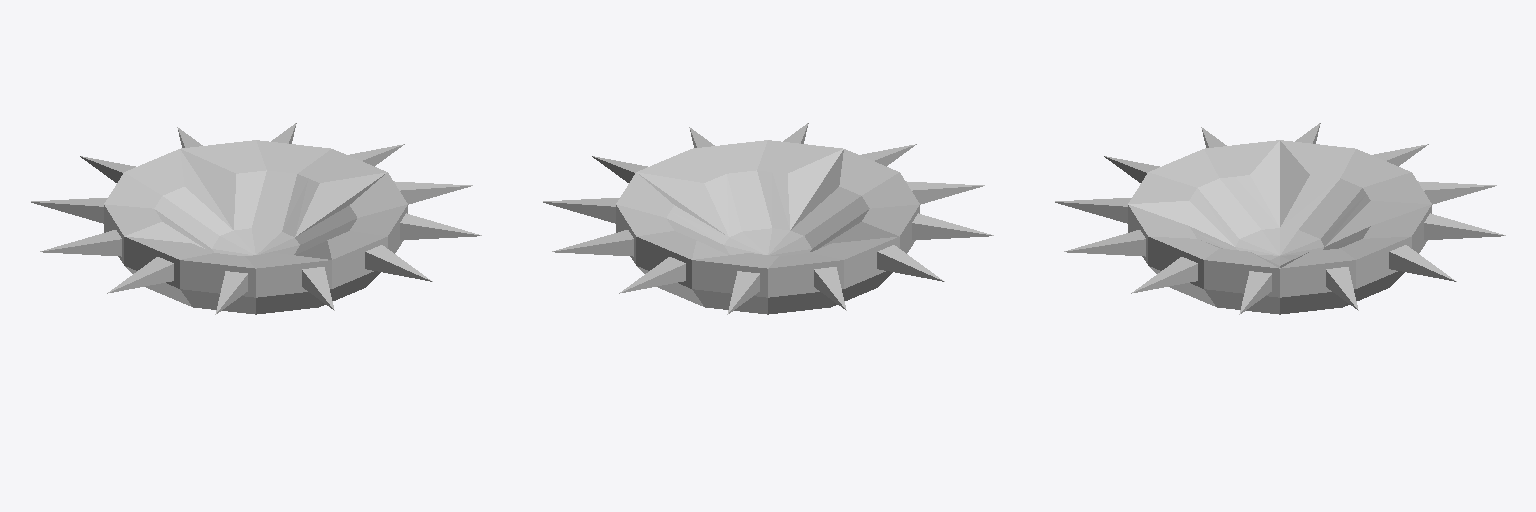
The model's file is 3Disc.obj.
3 renders of one model, left to right at view 1: azimuth 30°, elevation 25°; view 2: azimuth 150°, elevation 25°; view 3: azimuth 270°, elevation 25°, orthographic.
Parts seen in each view (by area): view 1: 3Disc; view 2: 3Disc; view 3: 3Disc.
Part boxes in pixels (x1,y1,x2,y2): 3Disc: (31,123,481,314); 3Disc: (543,123,993,314); 3Disc: (1055,123,1505,314).
Size of the model in its own units: 5.43 by 1.36 by 5.43.